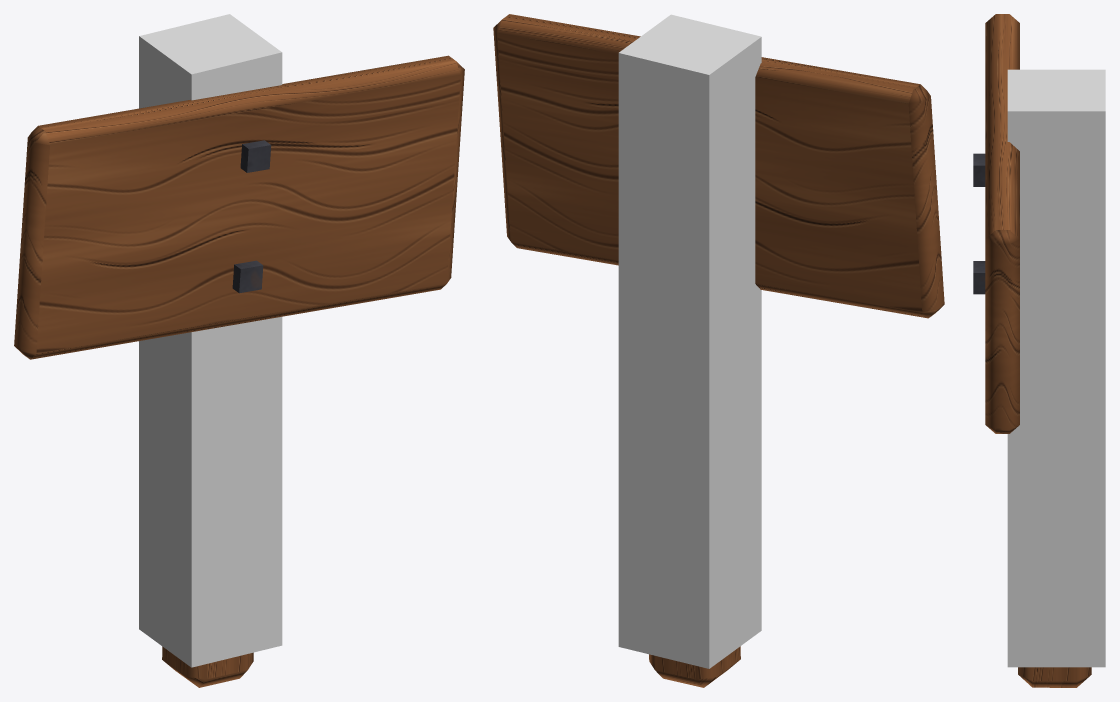
File: SM_Sign_Small.fbx
The picture shows the model from 3 angles, left to right: view 1: azimuth 30°, elevation 25°; view 2: azimuth 150°, elevation 25°; view 3: azimuth 270°, elevation 25°; orthographic projection. The views are drawn at different scales.
Parts seen in each view (by area): view 1: SignSmall_Body, SignSmall_Col0; view 2: SignSmall_Col0, SignSmall_Body; view 3: SignSmall_Col0, SignSmall_Body.
Part boxes in pixels (x1=…): SignSmall_Body: x1=14, y1=55, x2=464, y2=687; SignSmall_Col0: x1=139, y1=14, x2=282, y2=667; SignSmall_Col0: x1=618, y1=14, x2=761, y2=668; SignSmall_Body: x1=493, y1=14, x2=944, y2=687; SignSmall_Col0: x1=1007, y1=69, x2=1105, y2=667; SignSmall_Body: x1=973, y1=14, x2=1091, y2=687.
Bounding box in the file's own units: 1.96 × 2.65 × 0.54.
